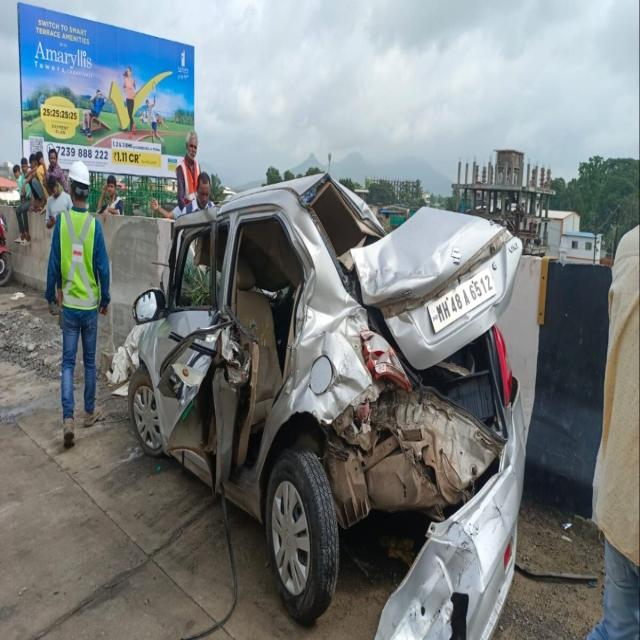accident: (129, 176, 525, 637)
